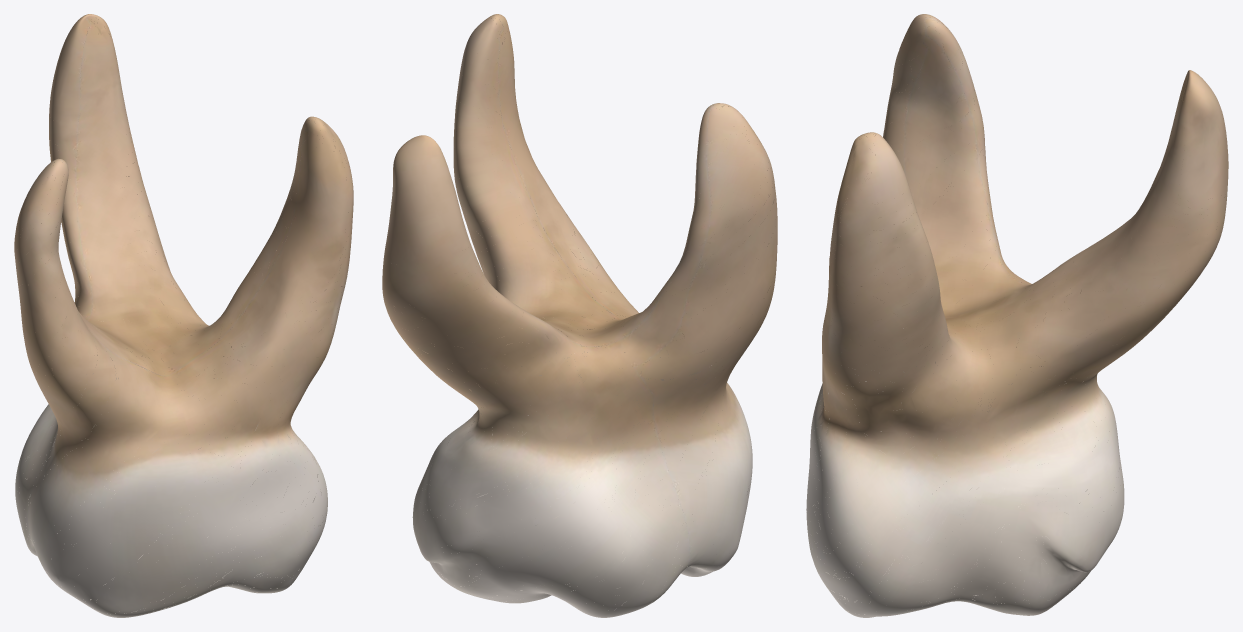
The picture shows the model from 3 angles, left to right: view 1: azimuth 30°, elevation 25°; view 2: azimuth 150°, elevation 25°; view 3: azimuth 270°, elevation 25°; orthographic projection. The views are drawn at different scales.
Visible parts, largest first — view 1: diente-55 (×6); view 2: diente-55 (×6); view 3: diente-55 (×6).
Boxes of the visible parts, <box> form: diente-55 (×6): <box>14,14,353,617</box>; diente-55 (×6): <box>382,14,777,617</box>; diente-55 (×6): <box>806,14,1228,617</box>.
Size of the model in its own units: 0.0116 by 0.0175 by 0.0126.
Materials: 1 (1 with a texture image).
